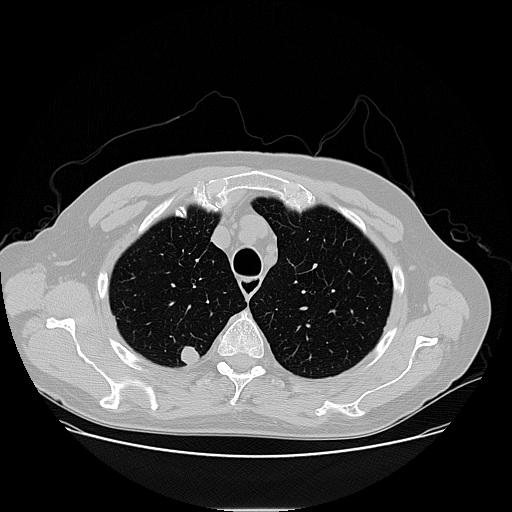nodule: (177, 343, 201, 367)
